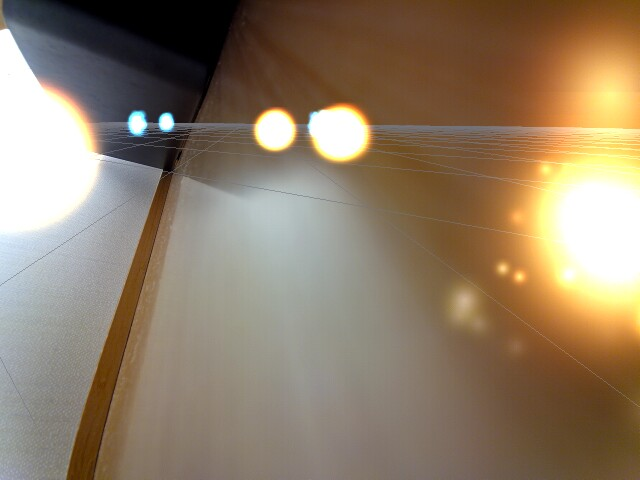firebig: (0, 77, 104, 243)
